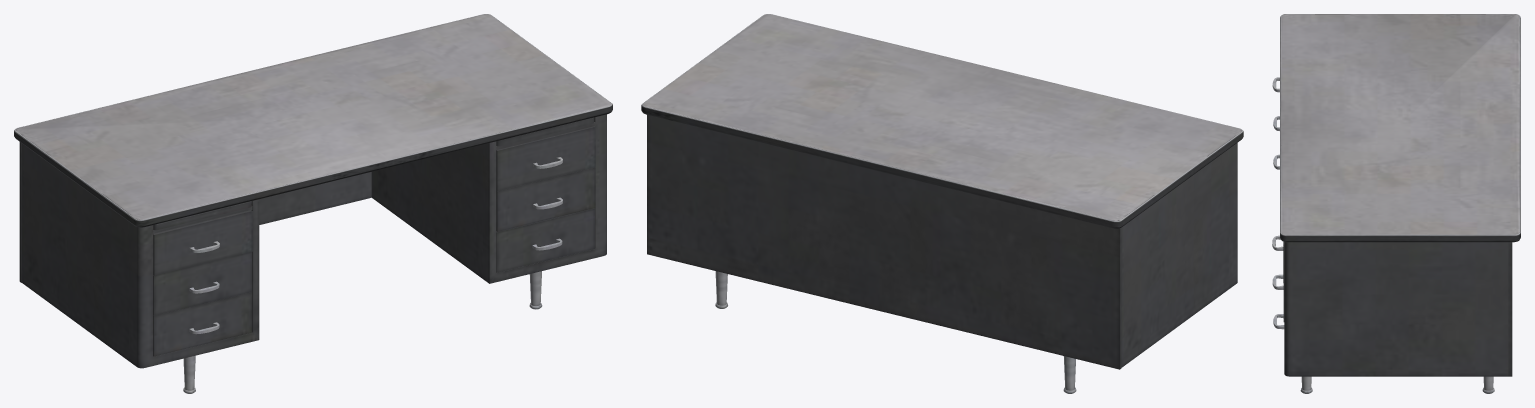
The model's file is metal_office_desk.glb.
The picture shows the model from 3 angles, left to right: view 1: azimuth 30°, elevation 25°; view 2: azimuth 150°, elevation 25°; view 3: azimuth 270°, elevation 25°; orthographic projection. The views are drawn at different scales.
Visible parts, largest first — view 1: metal_office_desk, metal_office_desk_drawer_04, metal_office_desk_drawer_01, metal_office_desk_drawer_02, metal_office_desk_drawer_03, metal_office_desk_drawer_06, metal_office_desk_drawer_05, metal_office_desk_tray_01, metal_office_desk_tray_02; view 2: metal_office_desk; view 3: metal_office_desk.
Part boxes in pixels (x1,y1,x2,y2): metal_office_desk: (14,14,612,393); metal_office_desk_drawer_04: (153,210,252,275); metal_office_desk_drawer_01: (496,126,595,191); metal_office_desk_drawer_02: (496,167,595,231); metal_office_desk_drawer_03: (496,208,594,272); metal_office_desk_drawer_06: (153,292,251,356); metal_office_desk_drawer_05: (153,252,251,315); metal_office_desk_tray_01: (153,201,251,230); metal_office_desk_tray_02: (496,117,594,146); metal_office_desk: (641,14,1243,393); metal_office_desk: (1280,14,1520,393).
Bounding box in the file's own units: 2 × 0.7875 × 0.9472.
1 material, 1 textured.
